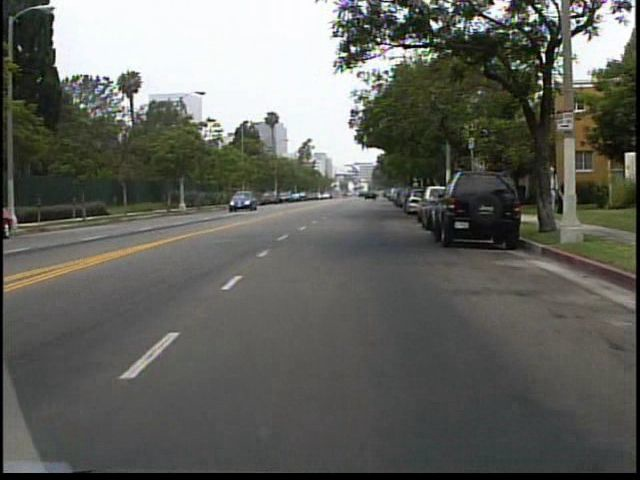person: (559, 165, 585, 233), (543, 161, 560, 225)
